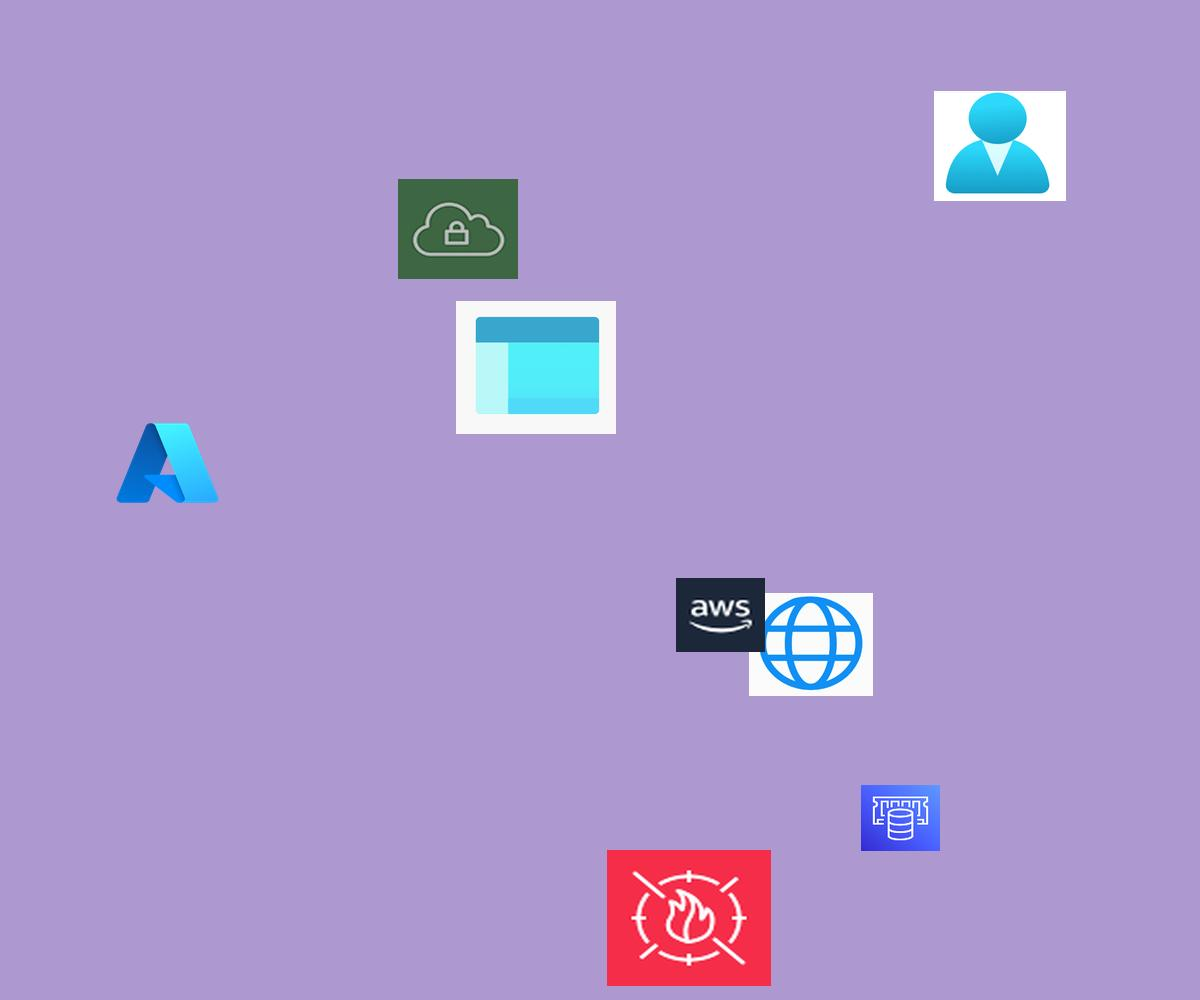AWS-Cloud-logo: (676, 578, 765, 652)
AWS-ElastiCache: (861, 785, 940, 851)
AWS-Private_vpc: (398, 179, 518, 279)
AWS-WAF: (607, 850, 771, 986)
Azure_http: (749, 593, 873, 696)
Azure_management-portal: (456, 301, 616, 434)
Azure_services: (112, 417, 223, 509)
Azure_users: (934, 91, 1066, 201)
